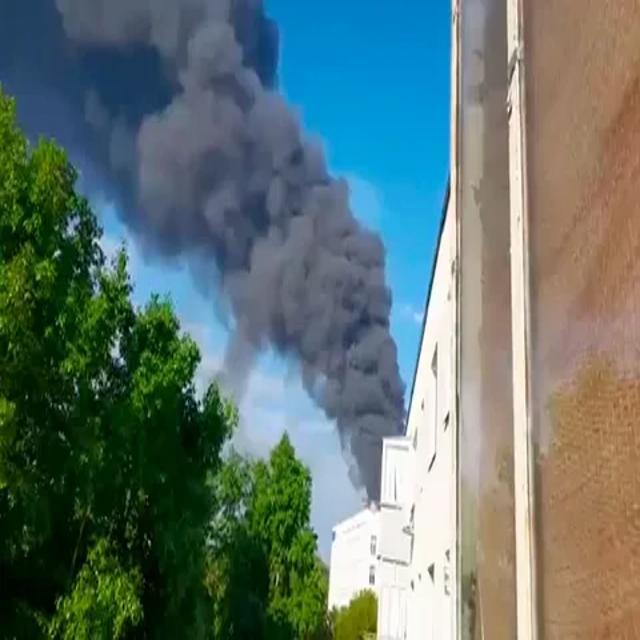Smoke: (56, 2, 407, 496)
